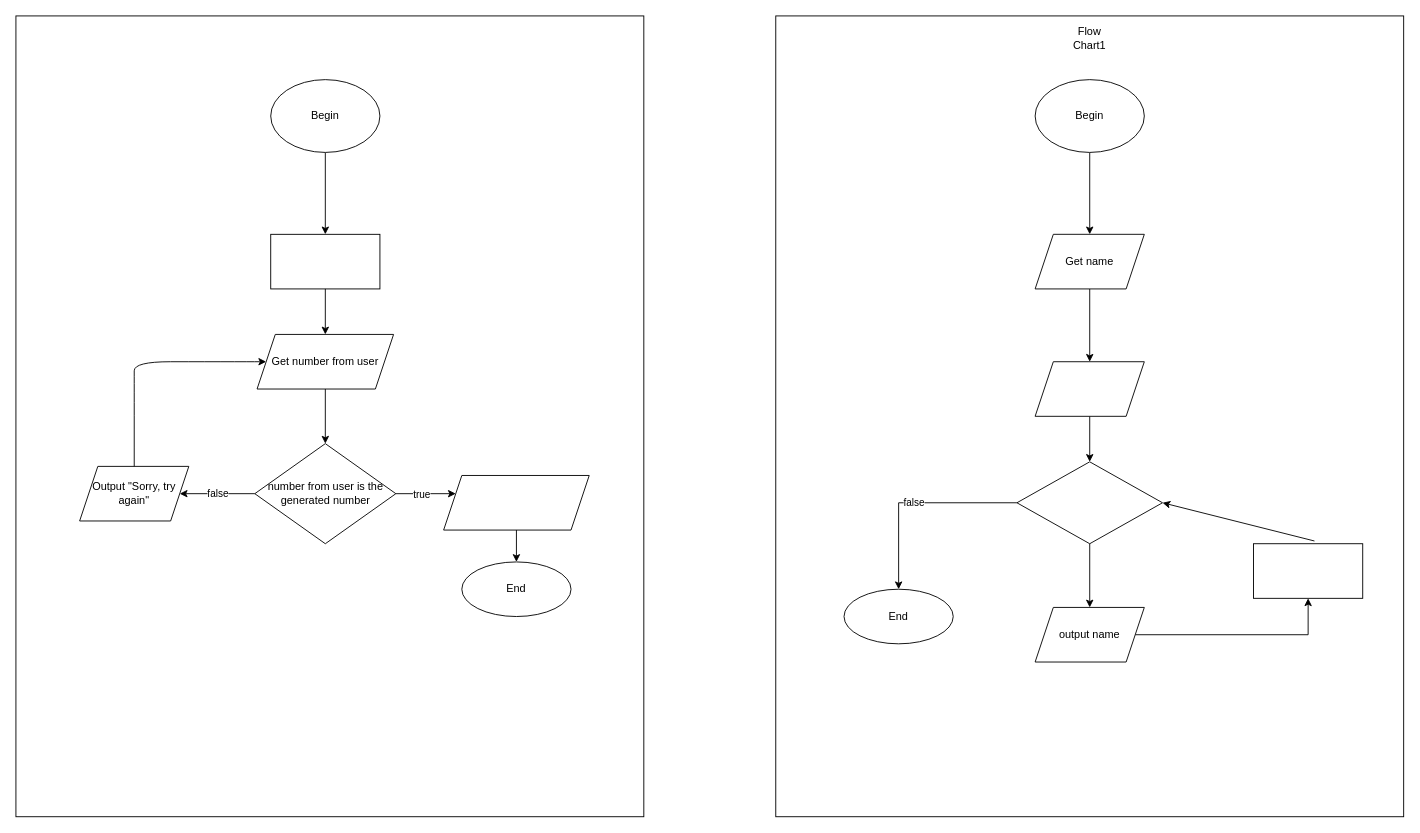
The diagram is 1420 pixels wide and 833 high, and some of its shapes have lost their labels. The centre of each missing label's shape, as x and y in pixels:
Generate random number between 1 and 5: (325,261)
Get a number: (1089,388)
i <=user entered value (number): (1089,502)
i+=1: (1308,570)
Output "Yes, you got it": (516,502)
